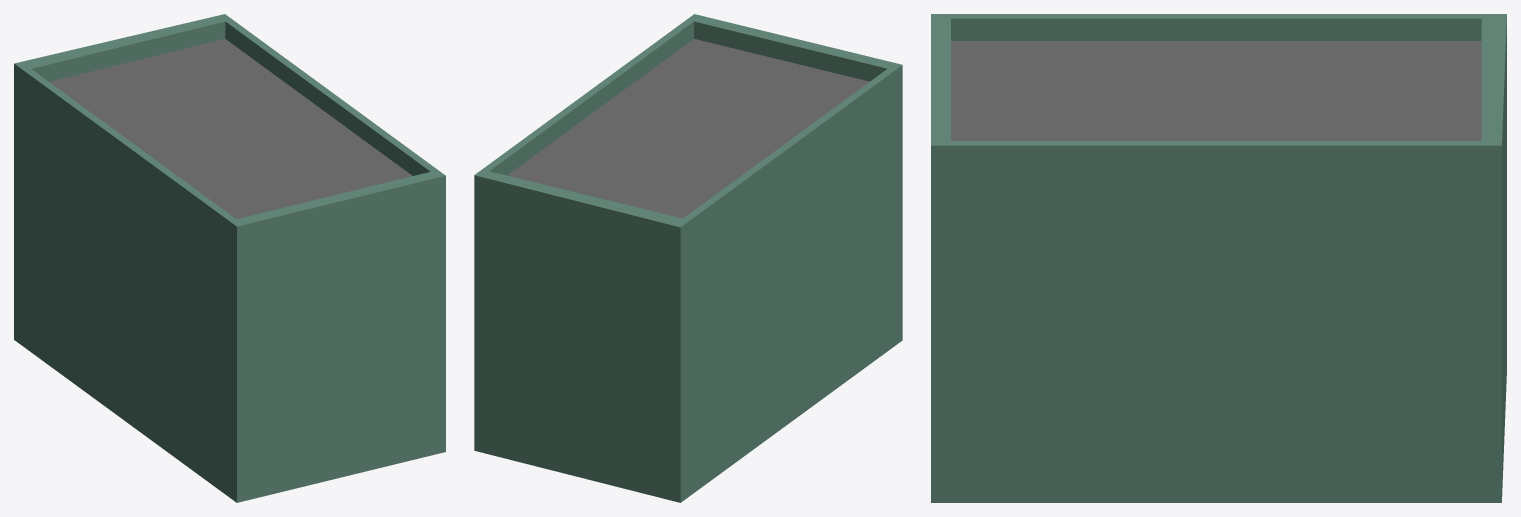
Rendered from building6.fbx.
The picture shows the model from 3 angles, left to right: view 1: azimuth 30°, elevation 25°; view 2: azimuth 150°, elevation 25°; view 3: azimuth 270°, elevation 25°; orthographic projection. The views are drawn at different scales.
Visible parts, largest first — view 1: building7; view 2: building7; view 3: building7.
Boxes of the visible parts, x1,y1,x2,y2 form: building7: (14,14,445,502); building7: (474,14,902,502); building7: (931,14,1506,502).
Size of the model in its own units: 1269 by 1603 by 2343.
